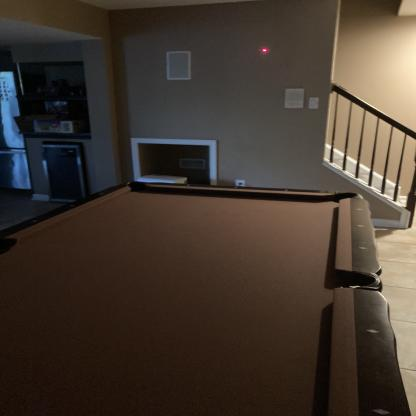target: (262, 46, 268, 52)
